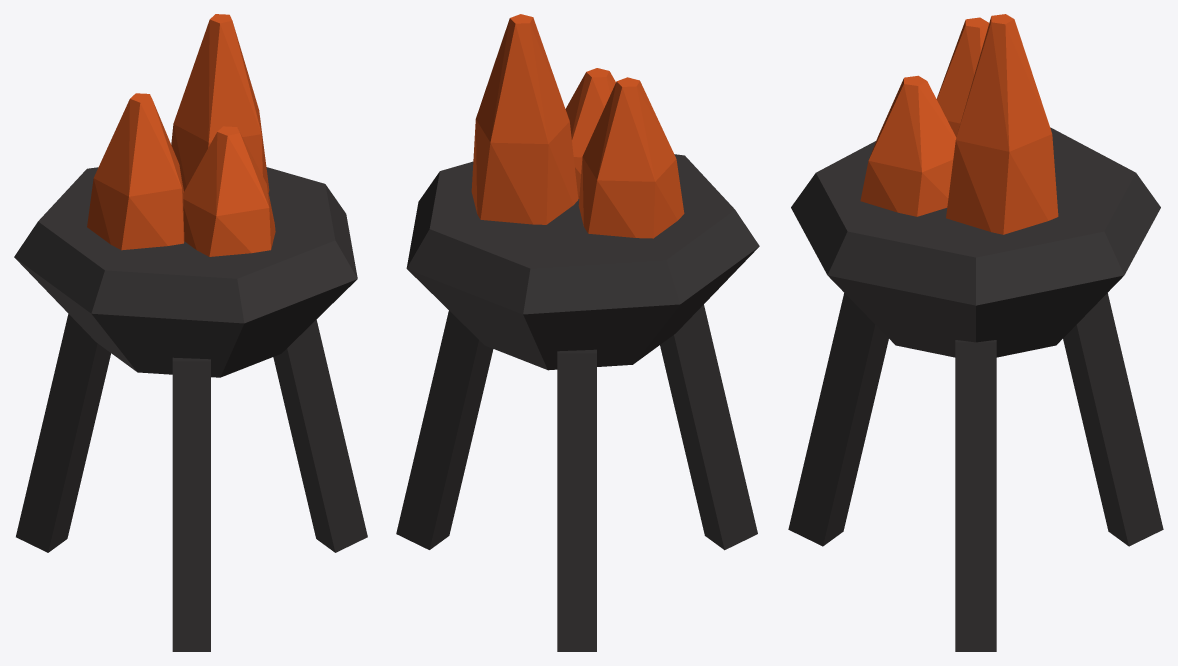
File: brazier.glb
3 views of the same model, side by side, from view 1: azimuth 30°, elevation 25°; view 2: azimuth 150°, elevation 25°; view 3: azimuth 270°, elevation 25° (orthographic). The views are drawn at different scales.
Visible parts, largest first — view 1: brazier; view 2: brazier; view 3: brazier.
Boxes of the visible parts, left/top/right/bottom form: brazier: left=14, top=14, right=367, bottom=651; brazier: left=396, top=14, right=759, bottom=651; brazier: left=788, top=14, right=1163, bottom=651.
Size of the model in its own units: 0.7323 by 1.24 by 0.731.
